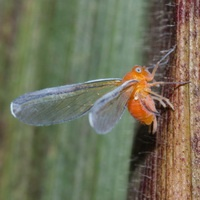insect: (11, 46, 188, 133)
